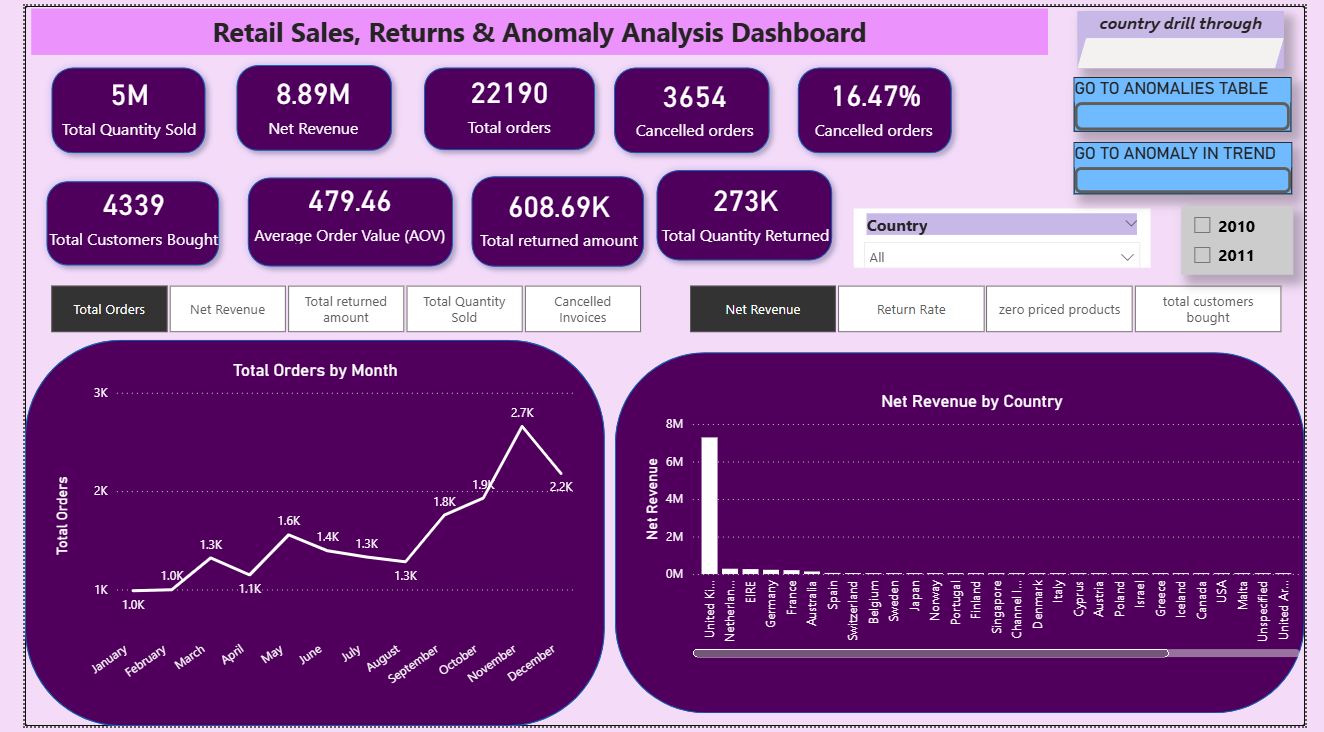

Layout of this report page (visuals, bound fields, positions):
{"tool":"powerbi","page":{"name":"dashboard","canvas":[1280,720],"ordinal":12},"visuals":[{"type":"shape","box":[17,51.9,172,103.8],"z":0,"group":"g1"},{"type":"group","id":"g1","title":"bg","box":[0,49.6,1280,670.3],"z":0},{"type":"shape","box":[764,51.7,172,103.8],"z":1000,"group":"g1"},{"type":"card","fields":{"Values":["retail.Total Quantity Sold"]},"box":[23.2,58.9,161.2,79],"z":1000},{"type":"shape","box":[203,49.6,173.6,103.8],"z":2000,"group":"g1"},{"type":"card","fields":{"Values":["retail.Net Revenues"]},"box":[229.3,58.9,119.3,77.5],"z":2000},{"type":"shape","box":[579.6,51.7,173.6,103.8],"z":3000,"group":"g1"},{"type":"card","fields":{"Values":["retail.Total Invoices"]},"box":[406,58.9,156.5,74.4],"z":3000},{"type":"shape","box":[390.5,51.6,189.1,100.7],"z":4000,"group":"g1"},{"type":"card","fields":{"Values":["retail.Cancelled Invoices"]},"box":[590.4,62,159.6,74.4],"z":4000},{"type":"shape","box":[437,160.3,190.6,108.5],"z":5000,"group":"g1"},{"type":"card","fields":{"Values":["retail.Total Quantity Returned"]},"box":[626.1,153.4,189.1,100.7],"z":5000},{"type":"shape","box":[213.8,162,223.1,106.9],"z":6000,"group":"g1"},{"type":"card","fields":{"Values":["retail.Total Return Amount"]},"box":[444.7,168.9,178.2,82.1],"z":6000},{"type":"shape","box":[12.4,166.3,190.6,102.3],"z":7000,"group":"g1"},{"type":"card","fields":{"Values":["retail.Total Customers Bought"]},"box":[17,165.8,182.9,83.7],"z":7000},{"type":"shape","box":[623,154.1,193.7,108.5],"z":8000,"group":"g1"},{"type":"card","fields":{"Values":["retail.Average Order Value (AOV)"]},"box":[221.6,165.8,207.7,75.9],"z":8000},{"type":"card","fields":{"Values":["retail.Cancelled %"]},"box":[765.5,52.7,172,93],"z":9000},{"type":"shape","box":[590.4,346.2,689.6,361.1],"z":9000,"group":"g1"},{"type":"shape","box":[0,333.4,579.7,386.5],"z":10000,"group":"g1"},{"type":"lineChart","fields":{"Y":["retail.Total Orders"],"Category":["retail.Month Name"]},"box":[23.2,353.3,533.1,347.1],"z":10000},{"type":"slicer","fields":{"Values":["order vs revenue.order vs revenue"]},"box":[0,272.7,640,60.4],"z":11000},{"type":"columnChart","fields":{"Y":["retail.Net Revenue"],"Category":["retail.Country"]},"box":[613.7,384.5,666.3,271.3],"z":12000},{"type":"slicer","fields":{"Values":["country parameter.country parameter"]},"box":[638.5,272.7,641.5,60.4],"z":13000},{"type":"slicer","fields":{"Values":["retail.Country"]},"box":[829.1,202.3,296.5,59.3],"z":14000},{"type":"actionButton","title":"country drill through","box":[1052.2,4.6,206.1,57.3],"z":15000},{"type":"textbox","box":[6.2,3.1,1016.6,46.5],"z":16000},{"type":"actionButton","title":"GO  TO ANOMALIES TABLE","box":[1048.8,70.9,217.4,54.7],"z":17000},{"type":"actionButton","title":"GO  TO ANOMALY IN TREND","box":[1048.8,136,218.6,52.3],"z":18000},{"type":"slicer","fields":{"Values":["retail.Year"]},"box":[1155.8,200,111.6,68.6],"z":18001}]}

Visuals, with their boxes in screenshot pixels (x1, y1, x2, y2), scaled from the page's 1280x720 canvas onto the 1324x732 screenshot:
shape: Rect(18, 53, 195, 158)
"bg" group: Rect(0, 50, 1323, 731)
shape: Rect(790, 53, 968, 158)
card - retail.Total Quantity Sold: Rect(24, 60, 191, 140)
shape: Rect(210, 50, 390, 156)
card - retail.Net Revenues: Rect(237, 60, 361, 139)
shape: Rect(600, 53, 779, 158)
card - retail.Total Invoices: Rect(420, 60, 582, 136)
shape: Rect(404, 52, 600, 155)
card - retail.Cancelled Invoices: Rect(611, 63, 776, 139)
shape: Rect(452, 163, 649, 273)
card - retail.Total Quantity Returned: Rect(648, 156, 843, 258)
shape: Rect(221, 165, 452, 273)
card - retail.Total Return Amount: Rect(460, 172, 644, 255)
shape: Rect(13, 169, 210, 273)
card - retail.Total Customers Bought: Rect(18, 169, 207, 254)
shape: Rect(644, 157, 845, 267)
card - retail.Average Order Value (AOV): Rect(229, 169, 444, 246)
card - retail.Cancelled %: Rect(792, 54, 970, 148)
shape: Rect(611, 352, 1323, 719)
shape: Rect(0, 339, 600, 731)
lineChart - retail.Total Orders x retail.Month Name: Rect(24, 359, 575, 712)
slicer - order vs revenue.order vs revenue: Rect(0, 277, 662, 339)
columnChart - retail.Net Revenue x retail.Country: Rect(635, 391, 1323, 667)
slicer - country parameter.country parameter: Rect(660, 277, 1323, 339)
slicer - retail.Country: Rect(858, 206, 1164, 266)
"country drill through" actionButton: Rect(1088, 5, 1302, 63)
textbox: Rect(6, 3, 1058, 50)
"GO  TO ANOMALIES TABLE" actionButton: Rect(1085, 72, 1310, 128)
"GO  TO ANOMALY IN TREND" actionButton: Rect(1085, 138, 1311, 191)
slicer - retail.Year: Rect(1196, 203, 1311, 273)
